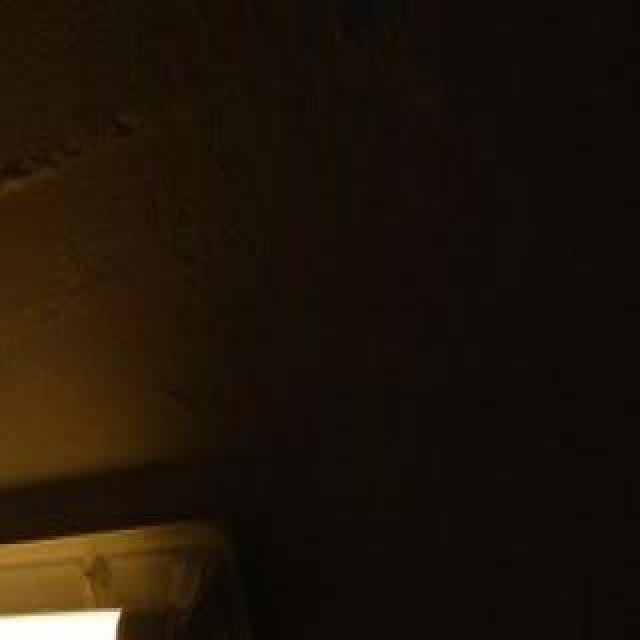fluorescent tube: (0, 582, 220, 640)
